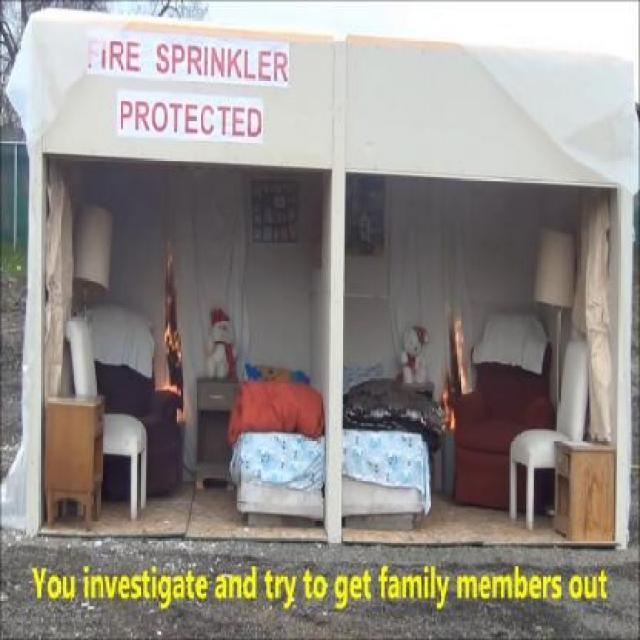fire: (146, 250, 200, 392), (427, 302, 473, 404)
